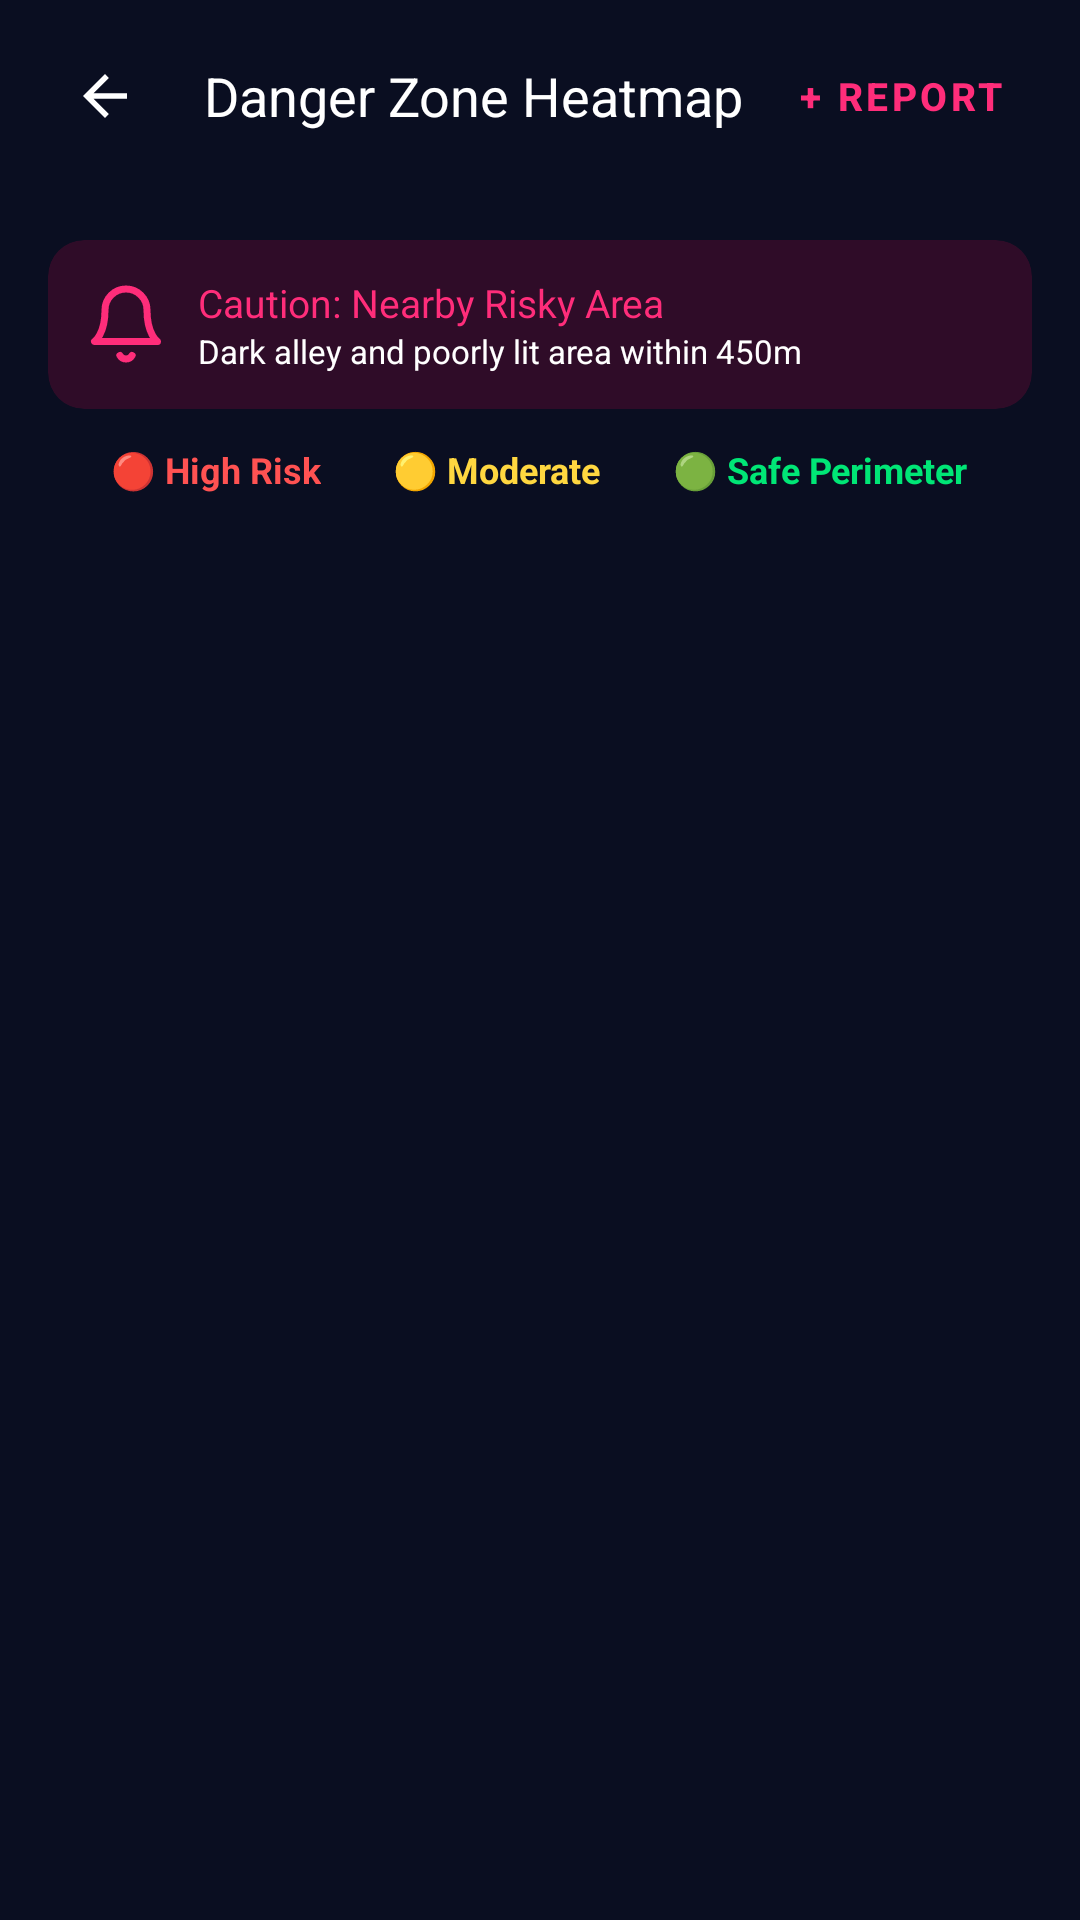

Icons on this 1080*1920 Android screen, each with the point to tap as point (x, y):
alerts: point (126, 324)
Back: point (105, 96)
